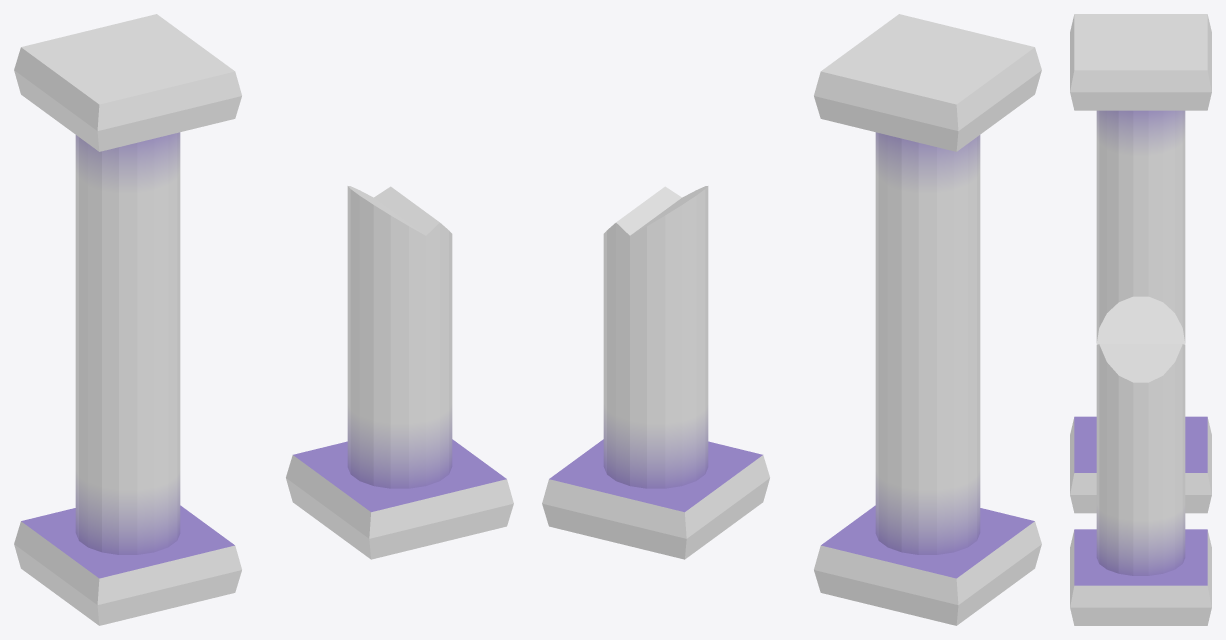
File: ruins_pillars.glb
The picture shows the model from 3 angles, left to right: view 1: azimuth 30°, elevation 25°; view 2: azimuth 150°, elevation 25°; view 3: azimuth 270°, elevation 25°; orthographic projection. The views are drawn at different scales.
Visible parts, largest first — view 1: Full Pillar, Broken Pillar; view 2: Full Pillar, Broken Pillar; view 3: Full Pillar, Broken Pillar.
Boxes of the visible parts, bbox=[...] form: Full Pillar: bbox=[14, 14, 241, 625]; Broken Pillar: bbox=[286, 186, 513, 559]; Full Pillar: bbox=[814, 14, 1041, 625]; Broken Pillar: bbox=[542, 186, 769, 559]; Full Pillar: bbox=[1070, 14, 1211, 513]; Broken Pillar: bbox=[1070, 296, 1211, 625].
Size of the model in its own units: 9.19 by 11 by 3.19.
